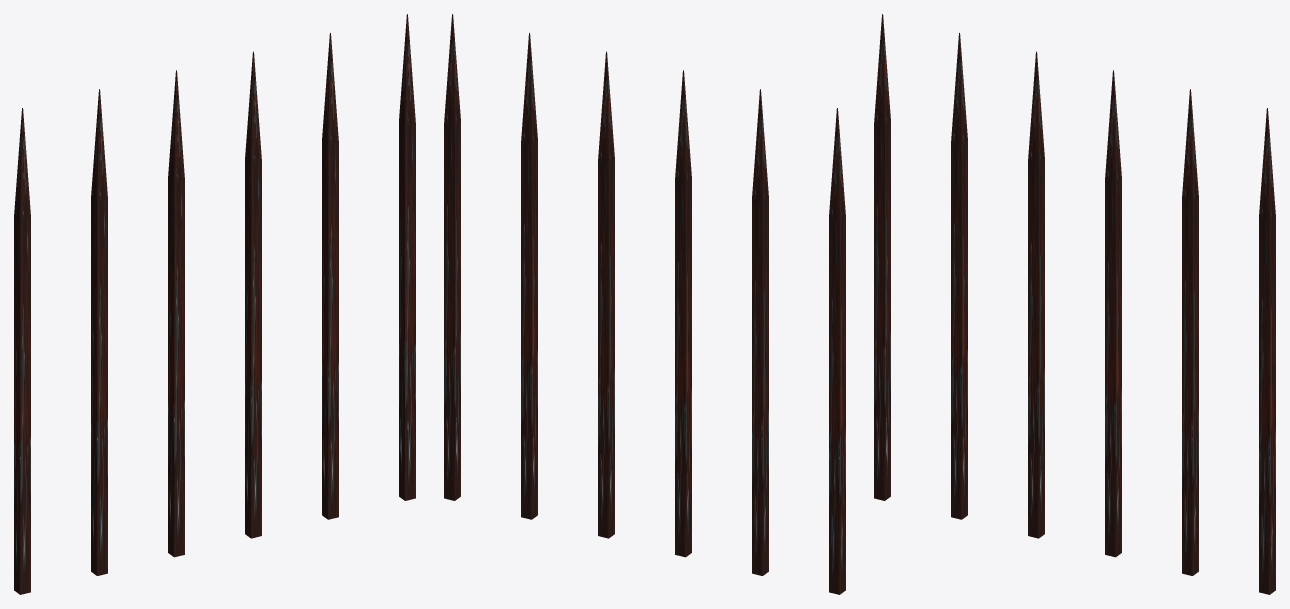
Rendered from SpikeRail.FBX.
The picture shows the model from 3 angles, left to right: view 1: azimuth 30°, elevation 25°; view 2: azimuth 150°, elevation 25°; view 3: azimuth 330°, elevation 25°; orthographic projection.
Visible parts, largest first — view 1: Box06; view 2: Box06; view 3: Box06.
Part boxes in pixels (x1=…): Box06: x1=14, y1=14, x2=415, y2=594; Box06: x1=444, y1=14, x2=845, y2=594; Box06: x1=874, y1=14, x2=1275, y2=594.
Size of the model in its own units: 128 by 150 by 3.5.
1 material, 1 textured.
